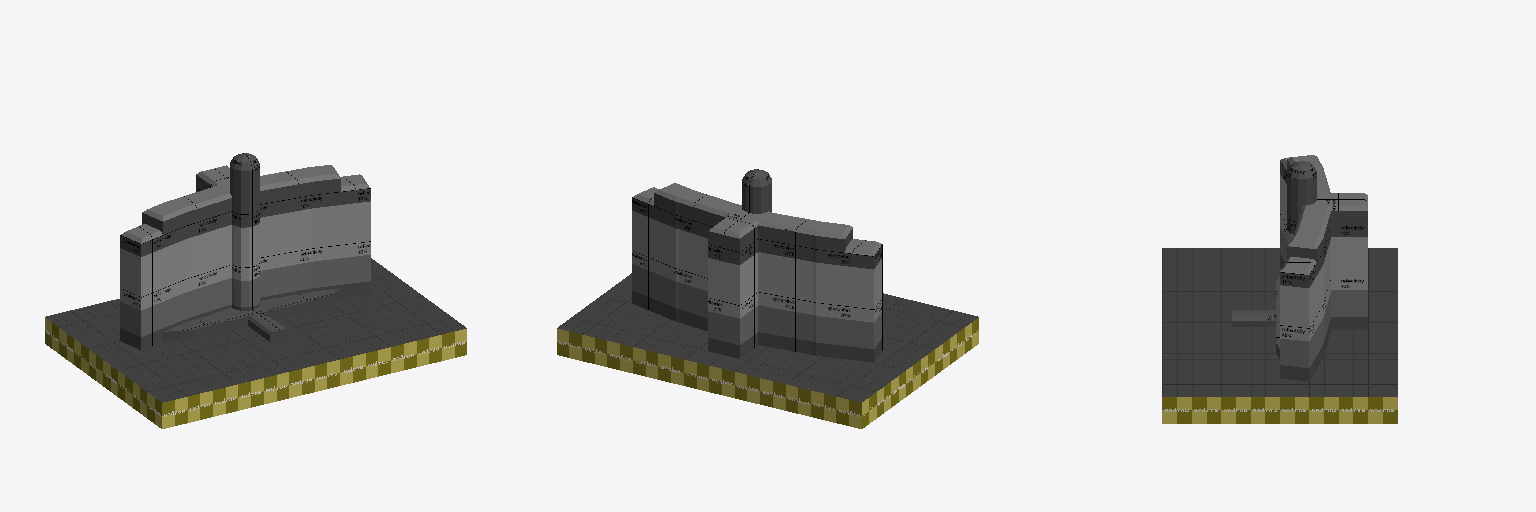
3 renders of one model, left to right at view 1: azimuth 30°, elevation 25°; view 2: azimuth 150°, elevation 25°; view 3: azimuth 270°, elevation 25°, orthographic.
Parts seen in each view (by area): view 1: entity0_brush0, entity0_brush15, entity0_brush17, entity0_brush53, entity0_brush16, entity0_brush14, entity0_brush9, entity0_brush11, entity0_brush48, entity0_brush10, entity0_brush8, entity0_brush24 (+12 smaller); view 2: entity0_brush0, entity0_brush15, entity0_brush14, entity0_brush44, entity0_brush17, entity0_brush9, entity0_brush16, entity0_brush8, entity0_brush43, entity0_brush11, entity0_brush24, entity0_brush3 (+14 smaller); view 3: entity0_brush0, entity0_brush17, entity0_brush44, entity0_brush11, entity0_brush43, entity0_brush51, entity0_brush54, entity0_brush40, entity0_brush35, entity0_brush5, entity0_brush22.
Part boxes in pixels (left/top/right/bottom): entity0_brush0: left=45, top=258, right=466, bottom=428; entity0_brush15: left=120, top=240, right=184, bottom=310; entity0_brush17: left=312, top=201, right=370, bottom=261; entity0_brush53: left=163, top=288, right=340, bottom=341; entity0_brush16: left=260, top=209, right=311, bottom=270; entity0_brush14: left=185, top=225, right=231, bottom=292; entity0_brush9: left=120, top=293, right=184, bottom=336; entity0_brush11: left=312, top=255, right=370, bottom=287; entity0_brush48: left=232, top=223, right=259, bottom=280; entity0_brush10: left=260, top=262, right=311, bottom=297; entity0_brush8: left=185, top=278, right=231, bottom=318; entity0_brush24: left=120, top=226, right=184, bottom=256; entity0_brush0: left=557, top=273, right=978, bottom=428; entity0_brush15: left=816, top=257, right=882, bottom=322; entity0_brush14: left=758, top=252, right=812, bottom=314; entity0_brush44: left=708, top=253, right=757, bottom=318; entity0_brush17: left=632, top=211, right=675, bottom=280; entity0_brush9: left=816, top=311, right=882, bottom=348; entity0_brush16: left=679, top=229, right=707, bottom=291; entity0_brush8: left=758, top=305, right=812, bottom=341; entity0_brush43: left=708, top=306, right=757, bottom=344; entity0_brush11: left=632, top=264, right=675, bottom=307; entity0_brush24: left=816, top=244, right=882, bottom=269; entity0_brush3: left=816, top=337, right=882, bottom=362; entity0_brush0: left=1162, top=248, right=1397, bottom=423; entity0_brush17: left=1280, top=264, right=1323, bottom=341; entity0_brush44: left=1331, top=237, right=1367, bottom=289; entity0_brush11: left=1280, top=318, right=1323, bottom=367; entity0_brush43: left=1331, top=290, right=1367, bottom=316; entity0_brush51: left=1287, top=178, right=1316, bottom=208; entity0_brush54: left=1232, top=310, right=1275, bottom=326; entity0_brush40: left=1295, top=206, right=1330, bottom=234; entity0_brush35: left=1331, top=193, right=1367, bottom=210; entity0_brush5: left=1280, top=344, right=1323, bottom=380; entity0_brush22: left=1280, top=251, right=1323, bottom=287.
Bounding box in the file's own units: 768 × 448 × 512.
5 materials, 5 textured.